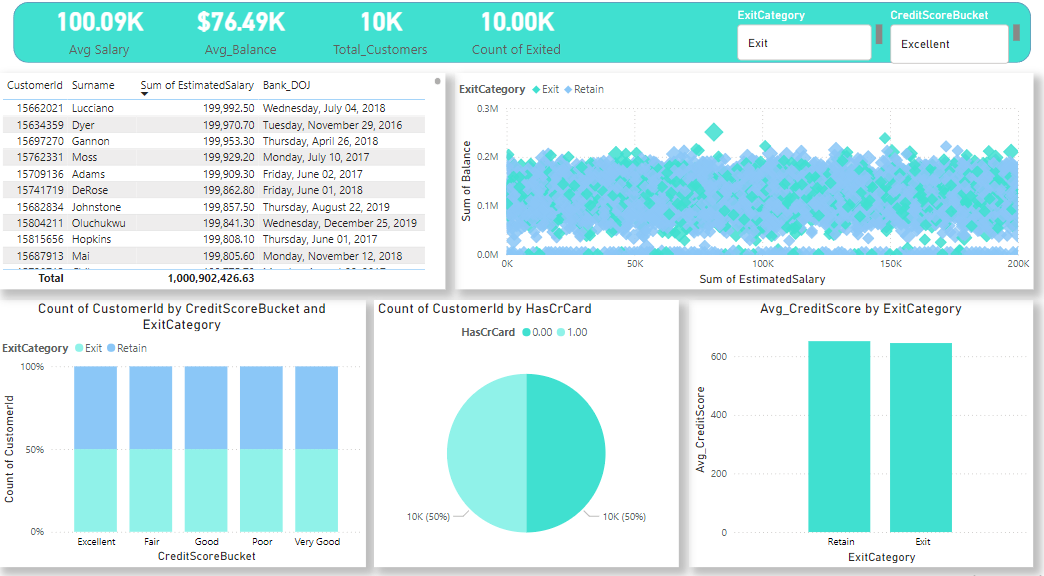

The page's visual inventory and layout, read from the dashboard file:
{"tool":"powerbi","page":{"name":"Financial Behaviour","canvas":[1280,720],"ordinal":2},"visuals":[{"type":"clusteredColumnChart","fields":{"Category":["analytics exit_dim.ExitCategory"],"Y":["Calculation.Avg_CreditScore"]},"box":[843.7,374.4,419.8,326.2],"z":0},{"type":"shape","box":[14.3,11.4,1250,74.3],"z":1000},{"type":"scatterChart","fields":{"X":["Sum(analytics customer_dim.EstimatedSalary)"],"Y":["Sum(analytics account_fact.Balance)"],"Series":["analytics exit_dim.ExitCategory"],"Size":["Sum(analytics account_fact.NumOfProducts)"],"Category":["analytics customer_dim.CustomerId"]},"box":[557.4,97.7,706.1,264.3],"z":2000},{"type":"hundredPercentStackedColumnChart","fields":{"Y":["CountNonNull(analytics customer_dim.CustomerId)"],"Category":["analytics account_fact.CreditScoreBucket"],"Series":["analytics exit_dim.ExitCategory"]},"box":[0,374.4,448.7,326.2],"z":3000},{"type":"tableEx","fields":{"Values":["analytics customer_dim.CustomerId","analytics customer_dim.Surname","Sum(analytics customer_dim.EstimatedSalary)","analytics customer_dim.Bank_DOJ"]},"box":[0,97.7,546.4,264.3],"z":4000},{"type":"pieChart","fields":{"Category":["analytics account_fact.HasCrCard"],"Y":["CountNonNull(analytics customer_dim.CustomerId)"]},"box":[458.3,374.4,371.6,326.2],"z":5000},{"type":"advancedSlicerVisual","fields":{"Values":["analytics account_fact.CreditScoreBucket"]},"box":[1084.6,17.9,166.5,68.8],"z":6000},{"type":"advancedSlicerVisual","fields":{"Values":["analytics exit_dim.ExitCategory"]},"box":[898.8,17.9,185.8,64.7],"z":7000},{"type":"card","fields":{"Values":["Calculation.Avg Salary"]},"box":[46.8,0,154.2,85.3],"z":8000},{"type":"card","fields":{"Values":["Calculation.Avg_Balance"]},"box":[191.3,0,209.2,85.3],"z":9000},{"type":"card","fields":{"Values":["CountNonNull(analytics account_fact.Exited)"]},"box":[557.4,0,150,85.3],"z":10000},{"type":"card","fields":{"Values":["Calculation.Total_Customers"]},"box":[386.8,0,159.7,85.3],"z":11000}]}

Visuals, with their boxes in screenshot pixels (x1, y1, x2, y2), scaled from the page's 1280x720 canvas onto the 1044x576 screenshot:
clusteredColumnChart - analytics exit_dim.ExitCategory x Calculation.Avg_CreditScore: region(688, 300, 1031, 560)
shape: region(12, 9, 1031, 69)
scatterChart - Sum(analytics customer_dim.EstimatedSalary) x Sum(analytics account_fact.Balance): region(455, 78, 1031, 290)
hundredPercentStackedColumnChart - CountNonNull(analytics customer_dim.CustomerId) x analytics account_fact.CreditScoreBucket: region(0, 300, 366, 560)
tableEx - analytics customer_dim.CustomerId x analytics customer_dim.Surname: region(0, 78, 446, 290)
pieChart - analytics account_fact.HasCrCard x CountNonNull(analytics customer_dim.CustomerId): region(374, 300, 677, 560)
advancedSlicerVisual - analytics account_fact.CreditScoreBucket: region(885, 14, 1020, 69)
advancedSlicerVisual - analytics exit_dim.ExitCategory: region(733, 14, 885, 66)
card - Calculation.Avg Salary: region(38, 0, 164, 68)
card - Calculation.Avg_Balance: region(156, 0, 327, 68)
card - CountNonNull(analytics account_fact.Exited): region(455, 0, 577, 68)
card - Calculation.Total_Customers: region(315, 0, 446, 68)
